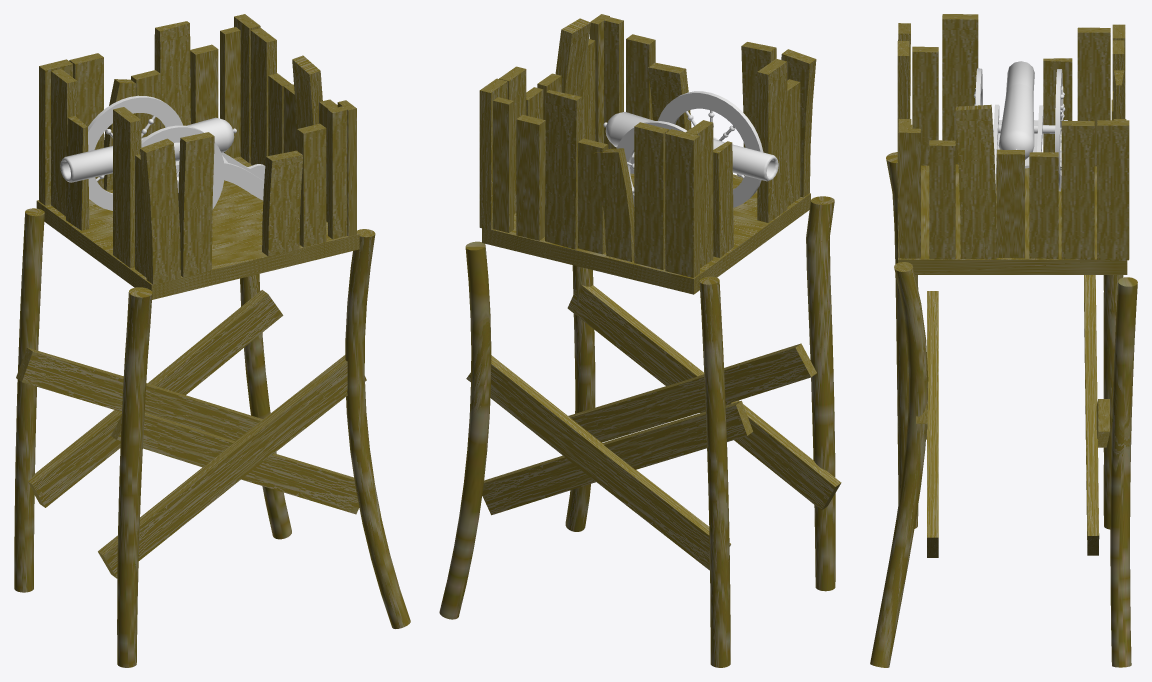
The model's file is tower3.FBX.
3 renders of one model, left to right at view 1: azimuth 30°, elevation 25°; view 2: azimuth 150°, elevation 25°; view 3: azimuth 270°, elevation 25°, orthographic. The views are drawn at different scales.
Visible parts, largest first — view 1: tower002, ChamferCyl018, Tube020, Tube021, Line075; view 2: tower002, Tube021, ChamferCyl018, Tube020; view 3: tower002, ChamferCyl018, Tube020.
Part boxes in pixels (<box>): tower002: <box>14,14,410,667</box>; ChamferCyl018: <box>60,117,233,182</box>; Tube020: <box>88,95,182,210</box>; Tube021: <box>141,125,224,209</box>; Line075: <box>175,162,264,200</box>; tower002: <box>439,14,841,667</box>; Tube021: <box>658,91,763,207</box>; ChamferCyl018: <box>605,112,778,181</box>; Tube020: <box>616,121,686,206</box>; tower002: <box>870,14,1137,667</box>; ChamferCyl018: <box>998,61,1034,159</box>; Tube020: <box>1055,69,1062,191</box>.
Bounding box in the file's own units: 897 × 1597 × 719.
